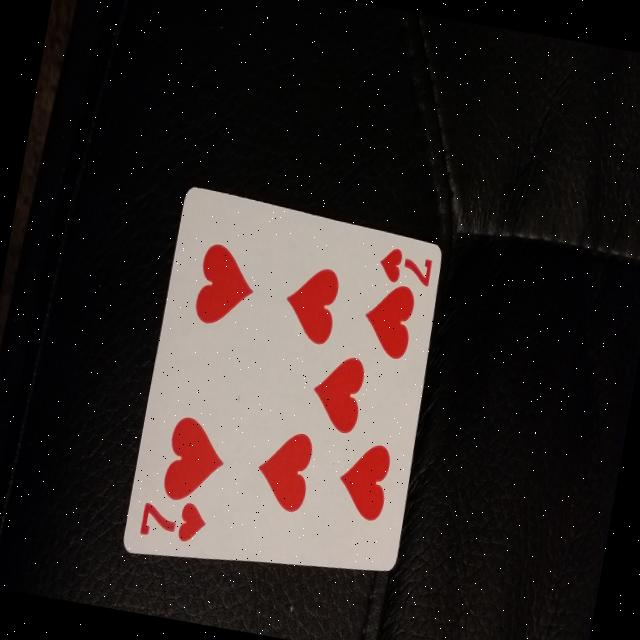7h: (132, 479, 218, 556), (369, 238, 442, 308)
